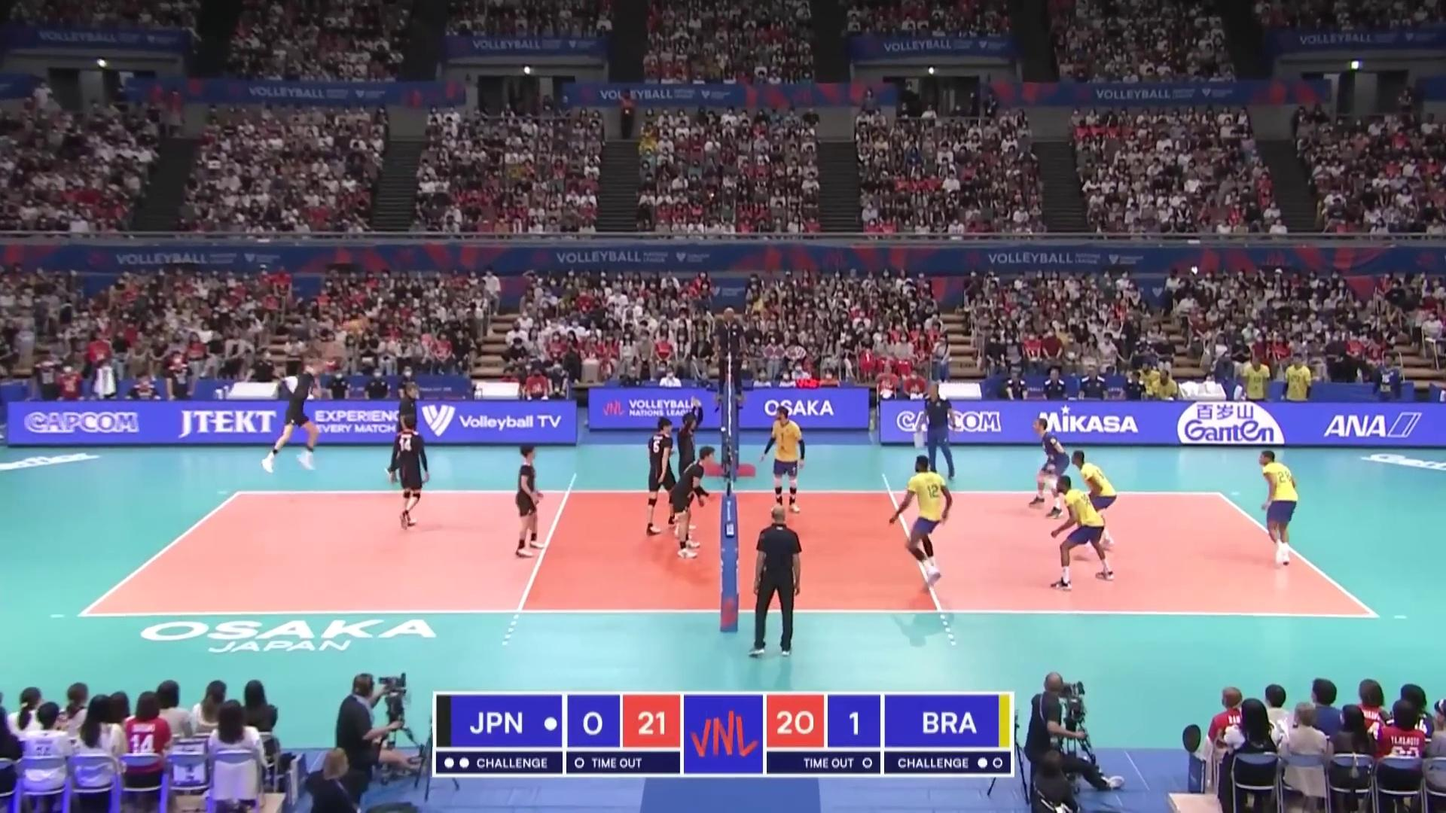player: (890, 454, 953, 593), (1043, 476, 1118, 587), (261, 361, 331, 473), (1066, 452, 1117, 557), (1258, 454, 1301, 569), (671, 447, 714, 560), (762, 406, 806, 516), (393, 413, 430, 533), (673, 399, 704, 536), (511, 444, 543, 558), (646, 417, 675, 537), (1033, 418, 1071, 509)
refree: (749, 505, 801, 657), (711, 305, 747, 394)
